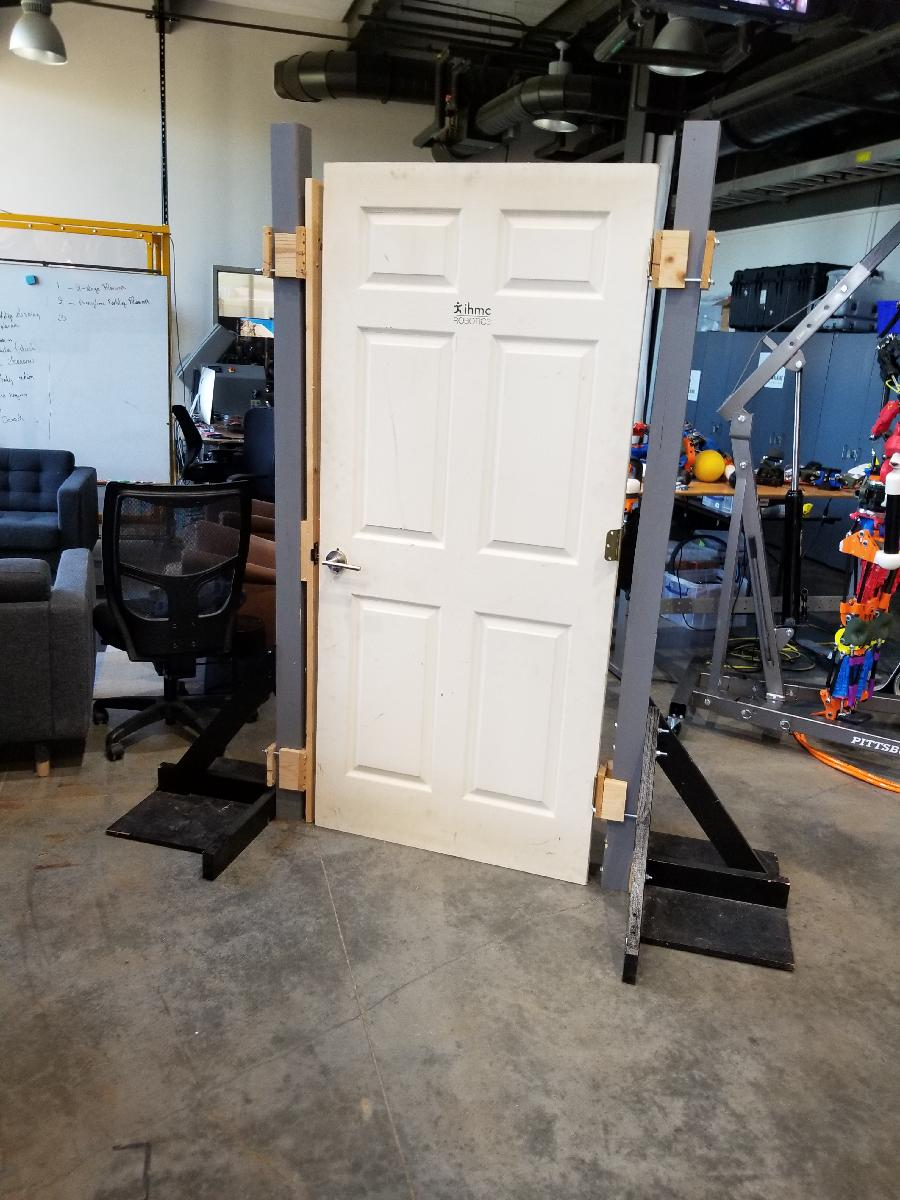door: (313, 156, 664, 903)
doorHandle: (320, 551, 367, 577)
